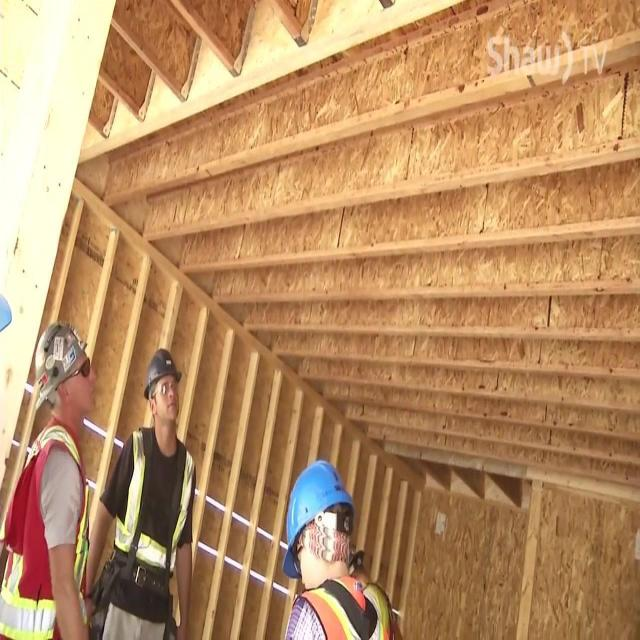vest: (0, 422, 90, 639), (112, 425, 195, 576), (296, 581, 396, 639)
